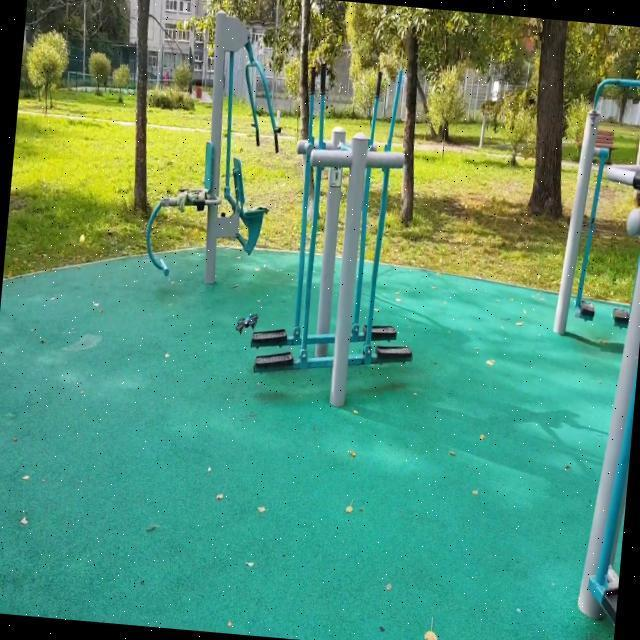Drons: (234, 309, 261, 338)
